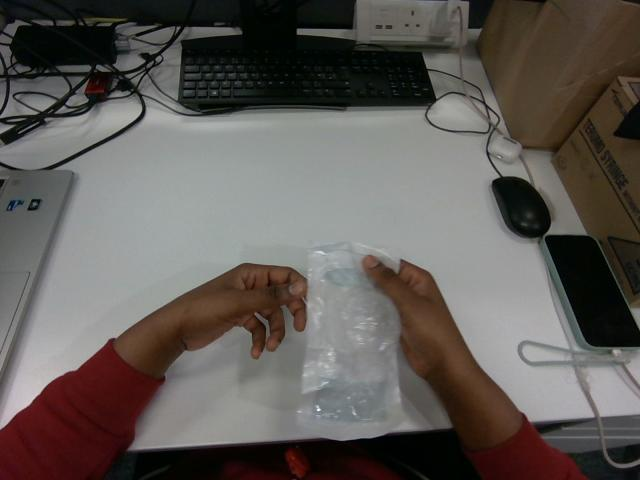gallipot: (297, 242, 402, 439)
